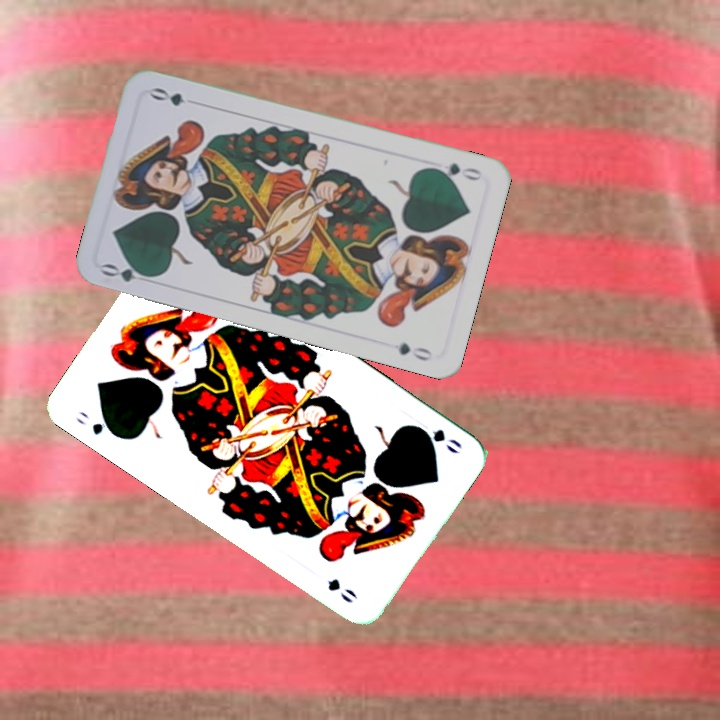GO: (409, 421, 465, 457), (71, 406, 122, 441), (98, 258, 158, 285), (426, 158, 485, 184)
